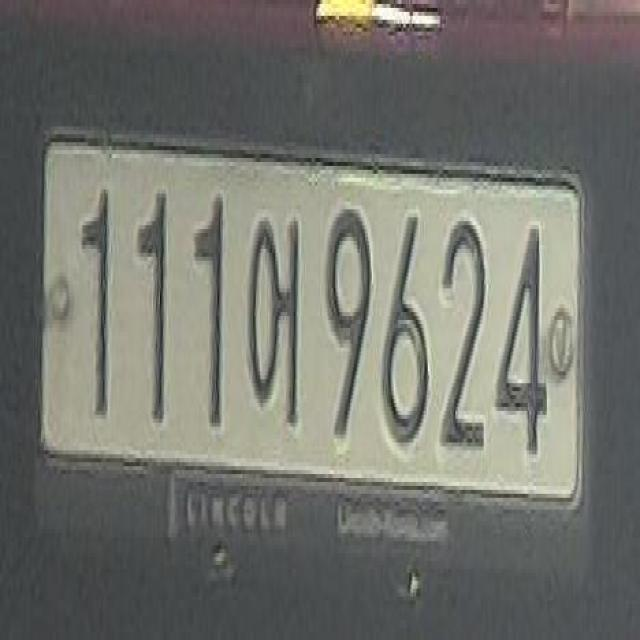illegal_plate: (41, 132, 591, 545)
